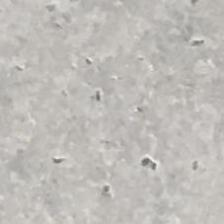Non_Crack: (24, 38, 212, 188)
